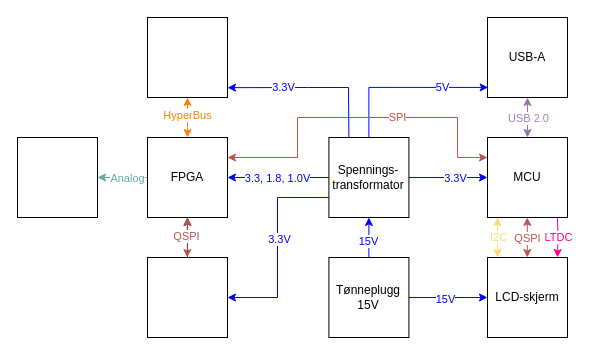
The diagram is 590 pixels wide and 355 high, and some of its shapes have lost their labels. Each missing label, with the centre of its shape:
"FLASH" goes at pixel 187 297.
"SRAM" goes at pixel 187 57.
"VGA" goes at pixel 57 177.
